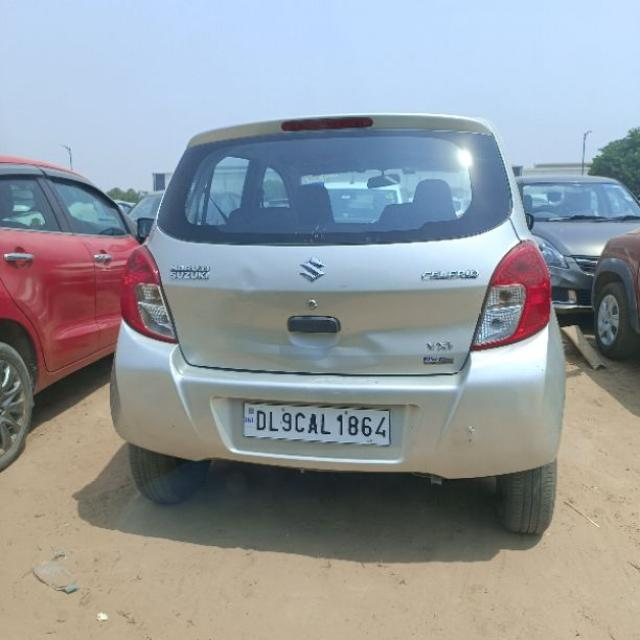license_plate: (241, 399, 391, 446)
